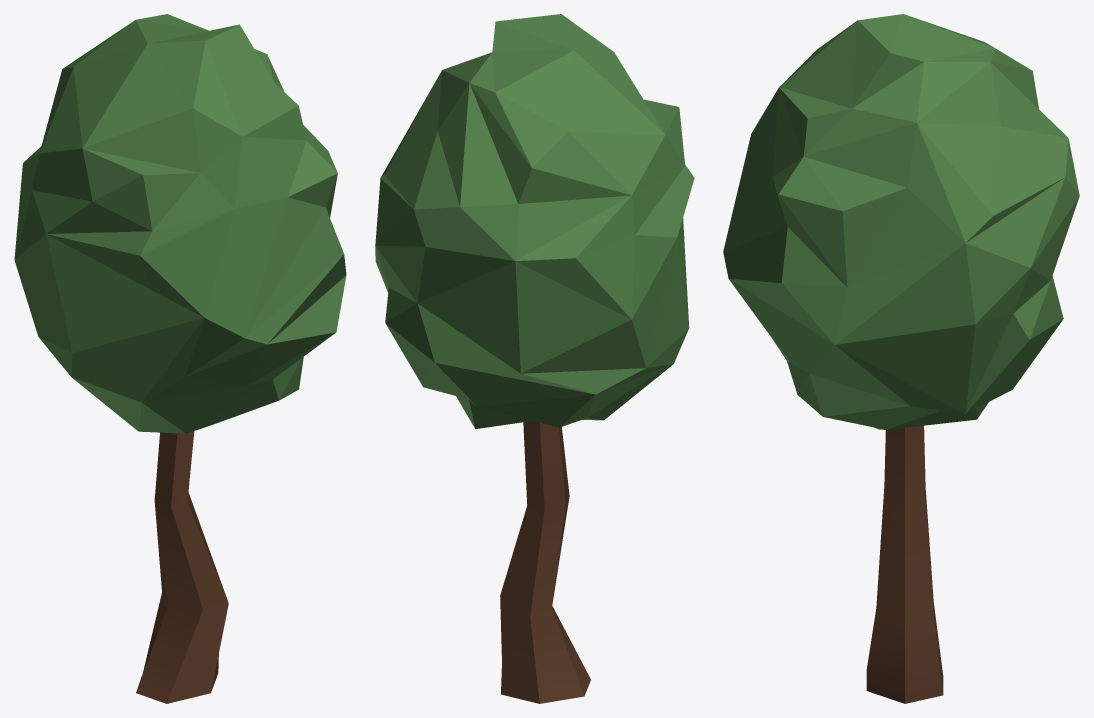
File: arbol_verde_redondo.fbx
The picture shows the model from 3 angles, left to right: view 1: azimuth 30°, elevation 25°; view 2: azimuth 150°, elevation 25°; view 3: azimuth 270°, elevation 25°; orthographic projection.
Visible parts, largest first — view 1: copa_arbol, tronco; view 2: copa_arbol, tronco; view 3: copa_arbol, tronco.
Part boxes in pixels (bbox=[...]): copa_arbol: bbox=[14, 14, 346, 433]; tronco: bbox=[136, 431, 228, 703]; copa_arbol: bbox=[375, 14, 694, 428]; tronco: bbox=[500, 421, 590, 703]; copa_arbol: bbox=[723, 14, 1079, 429]; tronco: bbox=[866, 425, 943, 703].
Bounding box in the file's own units: 7.08 × 16.63 × 8.07.
